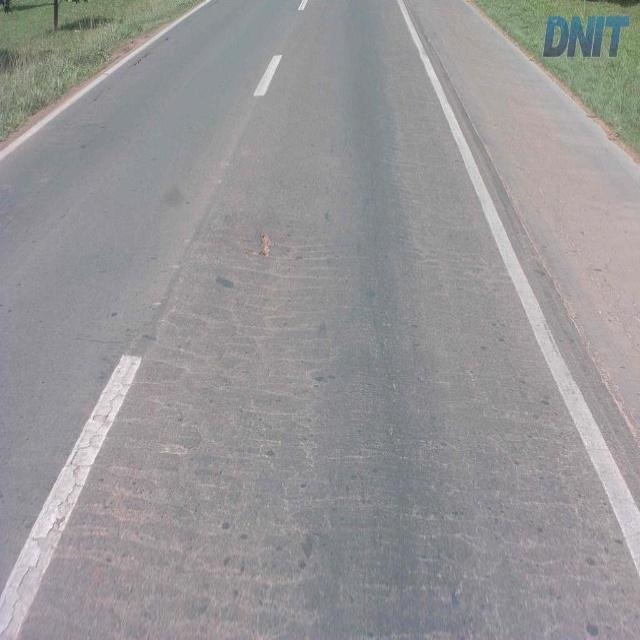pothole: (245, 224, 273, 266)
